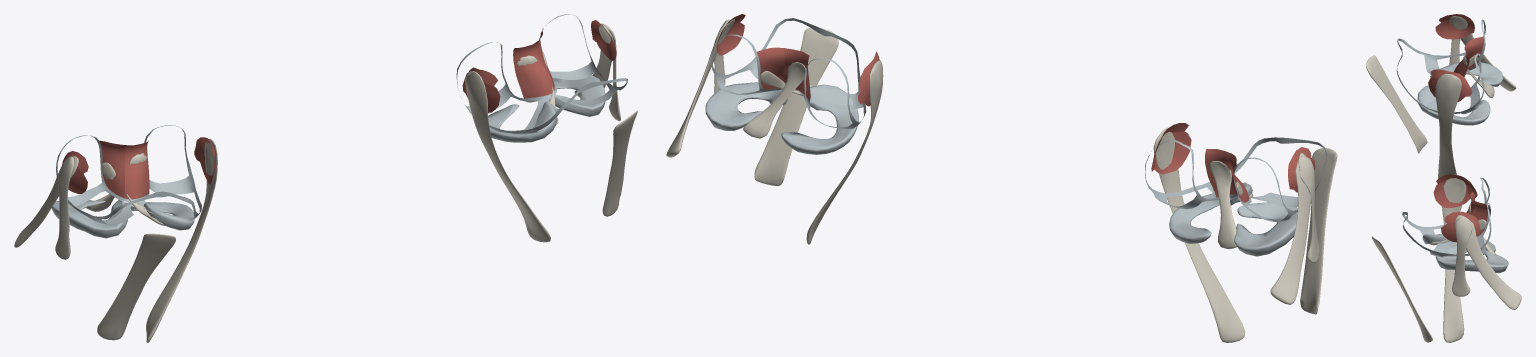
Rendered from adult_female.joint.LOD0.glb.
3 views of the same model, side by side, from view 1: azimuth 30°, elevation 25°; view 2: azimuth 150°, elevation 25°; view 3: azimuth 270°, elevation 25° (orthographic). The views are drawn at different scales.
Parts seen in each view (by area): view 1: ADULT.FEMALE.JOINT.PATELLAR_LIGAMENT.R, ADULT.FEMALE.JOINT.MENISCUS.L, ADULT.FEMALE.JOINT.ARTICULAR_CARTILAGE_OF_KNEE.R, ADULT.FEMALE.JOINT.ARTICULAR_CARTILAGE_OF_KNEE.L, ADULT.FEMALE.JOINT.TIBIAL_COLLATERAL_LIGAMENT.L, ADULT.FEMALE.JOINT.MENISCUS.R, ADULT.FEMALE.JOINT.TIBIAL_COLLATERAL_LIGAMENT.R, ADULT.FEMALE.JOINT.PATELLAR_LIGAMENT.L, ADULT.FEMALE.JOINT.POSTERIOR_CRUCIATE_ENTHESIS.L, ADULT.FEMALE.JOINT.POSTERIOR_CRUCIATE_ENTHESIS.R, ADULT.FEMALE.JOINT.ANTEROLATERAL_LIGAMENT_OF_KNEE.R, ADULT.FEMALE.JOINT.ANTERIOR_CRUCIATE_ENTHESIS.R (+2 smaller); view 2: ADULT.FEMALE.JOINT.MENISCUS.L, ADULT.FEMALE.JOINT.MENISCUS.R, ADULT.FEMALE.JOINT.PATELLAR_LIGAMENT.L, ADULT.FEMALE.JOINT.TIBIAL_COLLATERAL_LIGAMENT.R, ADULT.FEMALE.JOINT.PATELLAR_LIGAMENT.R, ADULT.FEMALE.JOINT.ARTICULAR_CARTILAGE_OF_KNEE.L, ADULT.FEMALE.JOINT.ARTICULAR_CARTILAGE_OF_KNEE.R, ADULT.FEMALE.JOINT.FIBULAR_COLLATERAL_LIGAMENT.R, ADULT.FEMALE.JOINT.POSTERIOR_CRUCIATE_LIGAMENT_OF_KNEE.R, ADULT.FEMALE.JOINT.POSTERIOR_CRUCIATE_LIGAMENT_OF_KNEE.L, ADULT.FEMALE.JOINT.TIBIAL_COLLATERAL_LIGAMENT.L, ADULT.FEMALE.JOINT.ANTEROLATERAL_LIGAMENT_OF_KNEE.R (+6 smaller); view 3: ADULT.FEMALE.JOINT.TIBIAL_COLLATERAL_LIGAMENT.R, ADULT.FEMALE.JOINT.TIBIAL_COLLATERAL_LIGAMENT.L, ADULT.FEMALE.JOINT.MENISCUS.R, ADULT.FEMALE.JOINT.FIBULAR_COLLATERAL_LIGAMENT.L, ADULT.FEMALE.JOINT.PATELLAR_LIGAMENT.R, ADULT.FEMALE.JOINT.ARTICULAR_CARTILAGE_OF_KNEE.R, ADULT.FEMALE.JOINT.MENISCUS.L, ADULT.FEMALE.JOINT.ARTICULAR_CARTILAGE_OF_KNEE.L, ADULT.FEMALE.JOINT.ANTEROLATERAL_LIGAMENT_OF_KNEE.L, ADULT.FEMALE.JOINT.PATELLAR_LIGAMENT.L, ADULT.FEMALE.JOINT.FIBULAR_COLLATERAL_LIGAMENT.R, ADULT.FEMALE.JOINT.LATERAL_PERICHONDULAR_SURFACE.R (+13 smaller).
Part boxes in pixels (x1,y1,x2,y2): ADULT.FEMALE.JOINT.PATELLAR_LIGAMENT.R: (97,233,175,340); ADULT.FEMALE.JOINT.MENISCUS.L: (488,75,605,142); ADULT.FEMALE.JOINT.ARTICULAR_CARTILAGE_OF_KNEE.R: (56,125,201,225); ADULT.FEMALE.JOINT.ARTICULAR_CARTILAGE_OF_KNEE.L: (456,14,627,134); ADULT.FEMALE.JOINT.TIBIAL_COLLATERAL_LIGAMENT.L: (465,71,550,242); ADULT.FEMALE.JOINT.MENISCUS.R: (51,200,194,238); ADULT.FEMALE.JOINT.TIBIAL_COLLATERAL_LIGAMENT.R: (146,138,217,342); ADULT.FEMALE.JOINT.PATELLAR_LIGAMENT.L: (602,110,637,216); ADULT.FEMALE.JOINT.POSTERIOR_CRUCIATE_ENTHESIS.L: (513,41,554,98); ADULT.FEMALE.JOINT.POSTERIOR_CRUCIATE_ENTHESIS.R: (124,141,149,199); ADULT.FEMALE.JOINT.ANTEROLATERAL_LIGAMENT_OF_KNEE.R: (55,156,74,259); ADULT.FEMALE.JOINT.ANTERIOR_CRUCIATE_ENTHESIS.R: (99,140,125,197); ADULT.FEMALE.JOINT.MENISCUS.L: (705,82,858,154); ADULT.FEMALE.JOINT.MENISCUS.R: (1169,182,1297,256); ADULT.FEMALE.JOINT.PATELLAR_LIGAMENT.L: (754,28,838,185); ADULT.FEMALE.JOINT.TIBIAL_COLLATERAL_LIGAMENT.R: (1153,127,1245,342); ADULT.FEMALE.JOINT.PATELLAR_LIGAMENT.R: (1300,148,1337,314); ADULT.FEMALE.JOINT.ARTICULAR_CARTILAGE_OF_KNEE.L: (710,18,866,129); ADULT.FEMALE.JOINT.ARTICULAR_CARTILAGE_OF_KNEE.R: (1145,137,1327,221); ADULT.FEMALE.JOINT.FIBULAR_COLLATERAL_LIGAMENT.R: (1270,153,1311,304); ADULT.FEMALE.JOINT.POSTERIOR_CRUCIATE_LIGAMENT_OF_KNEE.R: (1209,161,1236,249); ADULT.FEMALE.JOINT.POSTERIOR_CRUCIATE_LIGAMENT_OF_KNEE.L: (743,62,807,138); ADULT.FEMALE.JOINT.TIBIAL_COLLATERAL_LIGAMENT.L: (806,60,883,244); ADULT.FEMALE.JOINT.ANTEROLATERAL_LIGAMENT_OF_KNEE.R: (1298,156,1319,263); ADULT.FEMALE.JOINT.TIBIAL_COLLATERAL_LIGAMENT.R: (1435,73,1461,178); ADULT.FEMALE.JOINT.TIBIAL_COLLATERAL_LIGAMENT.L: (1442,174,1466,342); ADULT.FEMALE.JOINT.MENISCUS.R: (1417,61,1503,125); ADULT.FEMALE.JOINT.FIBULAR_COLLATERAL_LIGAMENT.L: (1454,215,1521,309); ADULT.FEMALE.JOINT.PATELLAR_LIGAMENT.R: (1366,55,1427,153); ADULT.FEMALE.JOINT.ARTICULAR_CARTILAGE_OF_KNEE.R: (1396,19,1485,114); ADULT.FEMALE.JOINT.MENISCUS.L: (1422,233,1508,273); ADULT.FEMALE.JOINT.ARTICULAR_CARTILAGE_OF_KNEE.L: (1402,177,1491,257); ADULT.FEMALE.JOINT.ANTEROLATERAL_LIGAMENT_OF_KNEE.L: (1452,216,1472,296); ADULT.FEMALE.JOINT.PATELLAR_LIGAMENT.L: (1371,236,1432,342); ADULT.FEMALE.JOINT.FIBULAR_COLLATERAL_LIGAMENT.R: (1449,16,1516,91); ADULT.FEMALE.JOINT.LATERAL_PERICHONDULAR_SURFACE.R: (1435,19,1469,39).
Bounding box in the file's own units: 0.3571 × 0.1167 × 0.1064.
